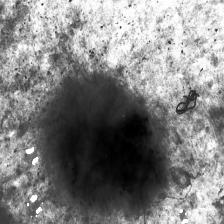Benign Marking or Mole: (56, 98, 168, 204)
